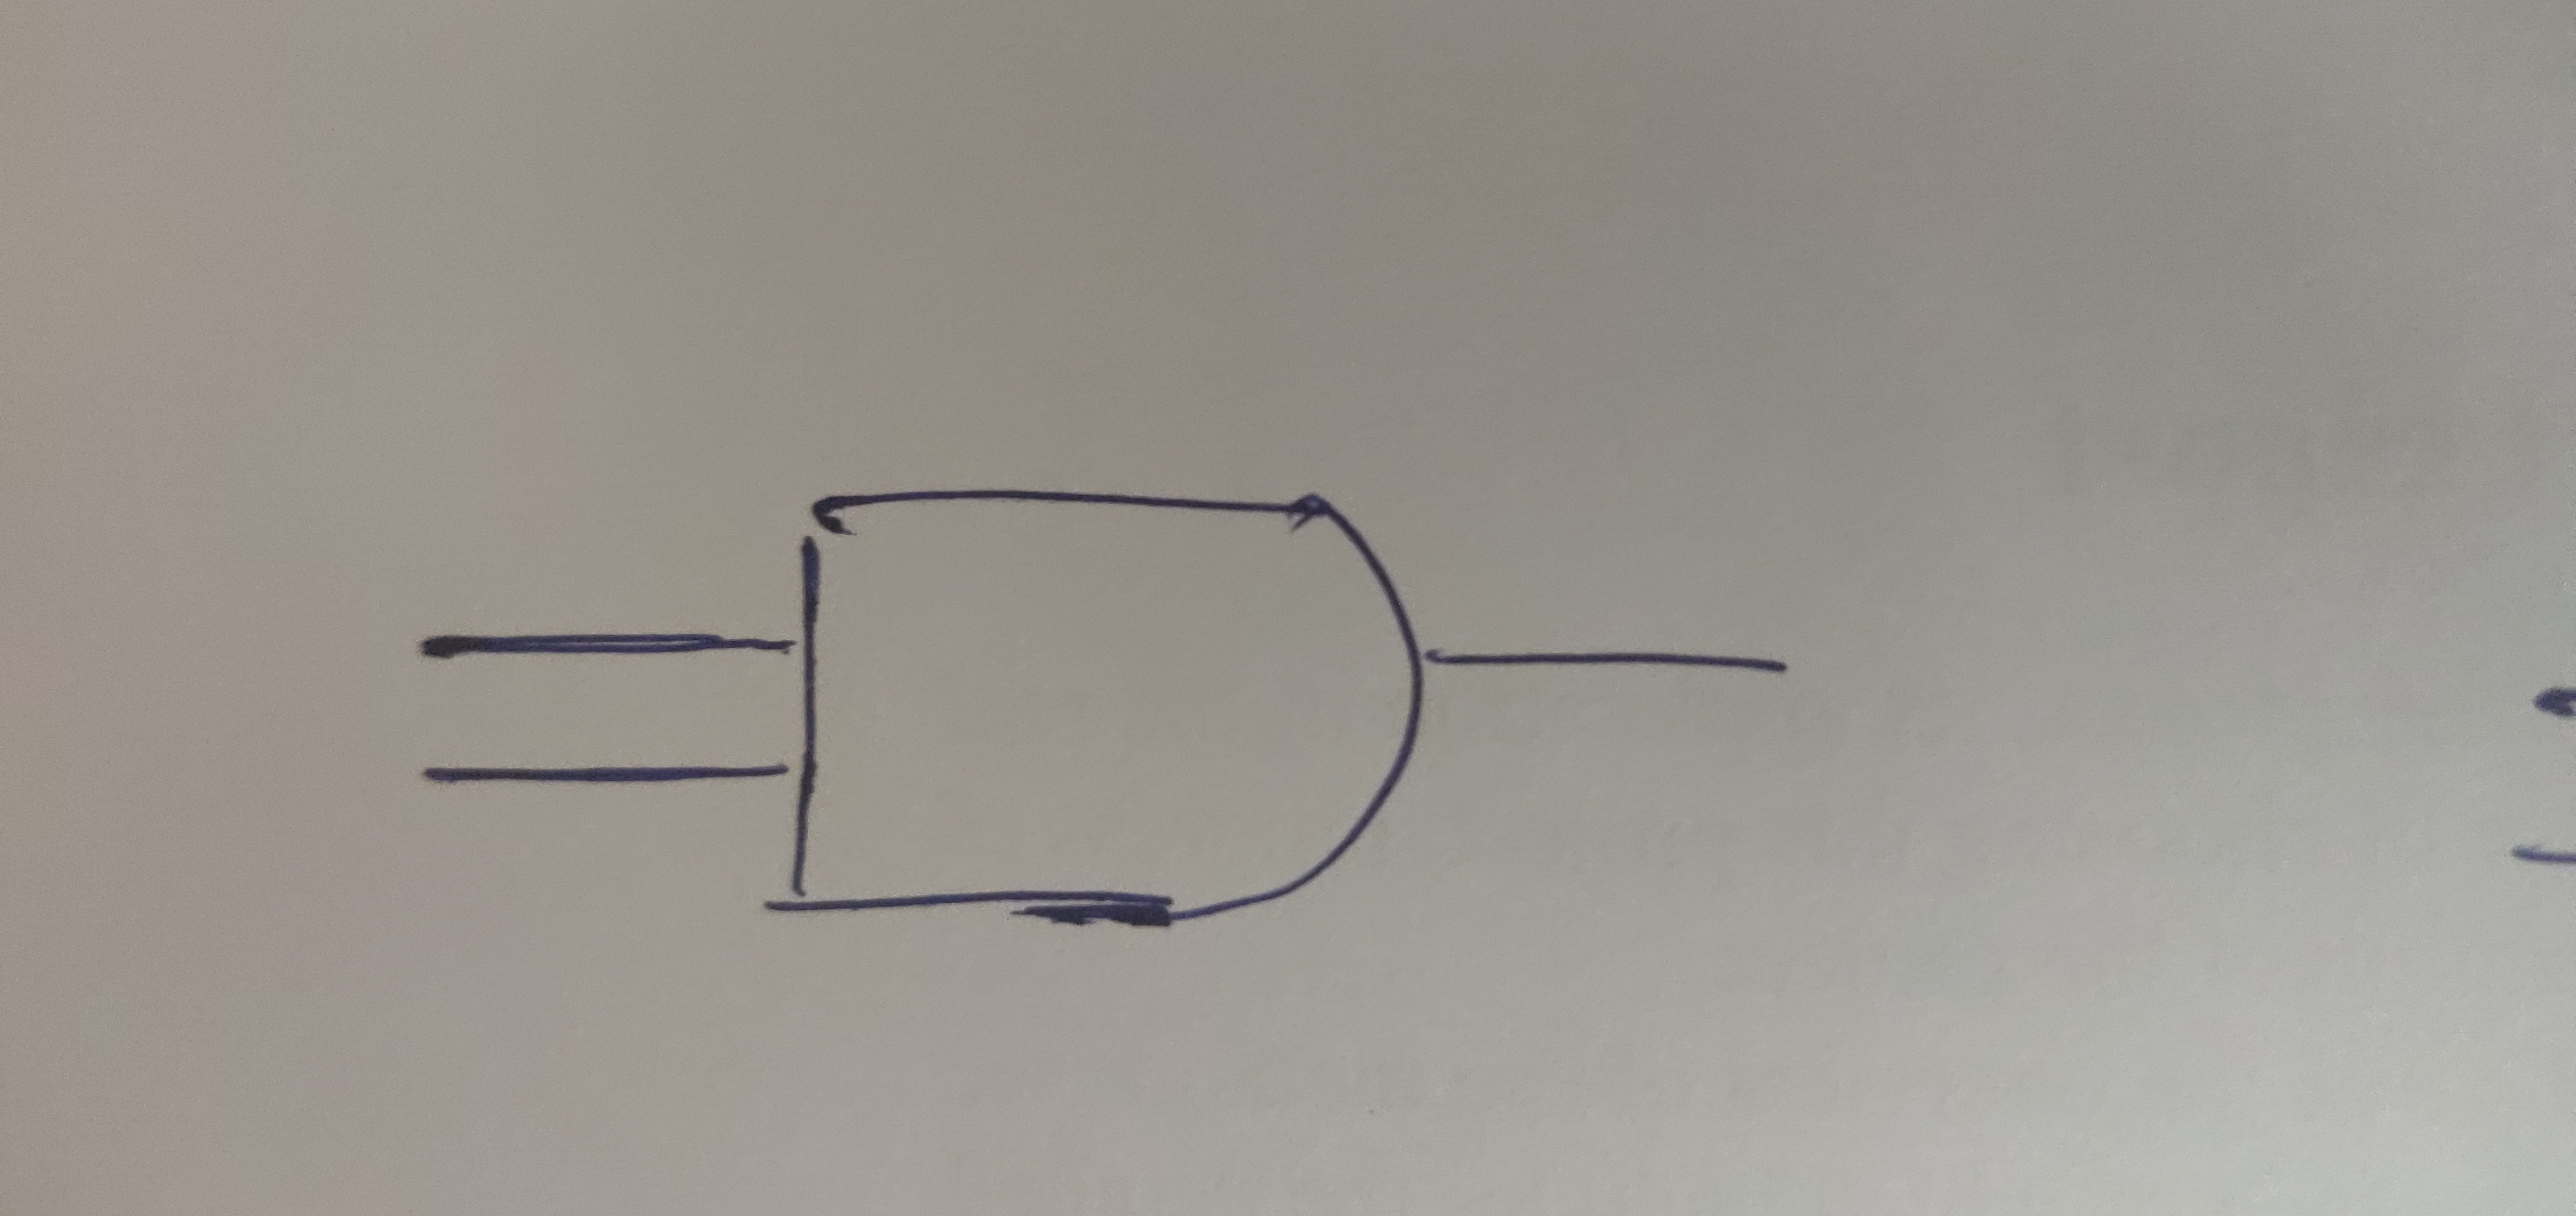and: (697, 450, 1482, 1002)
